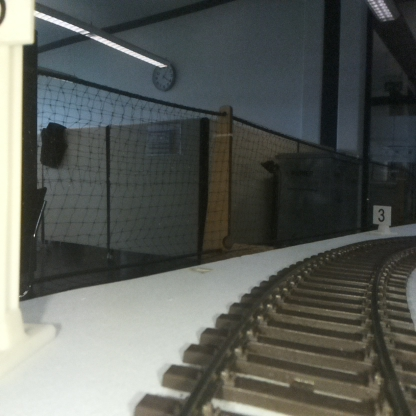white-stop-3: (373, 205, 391, 232)
